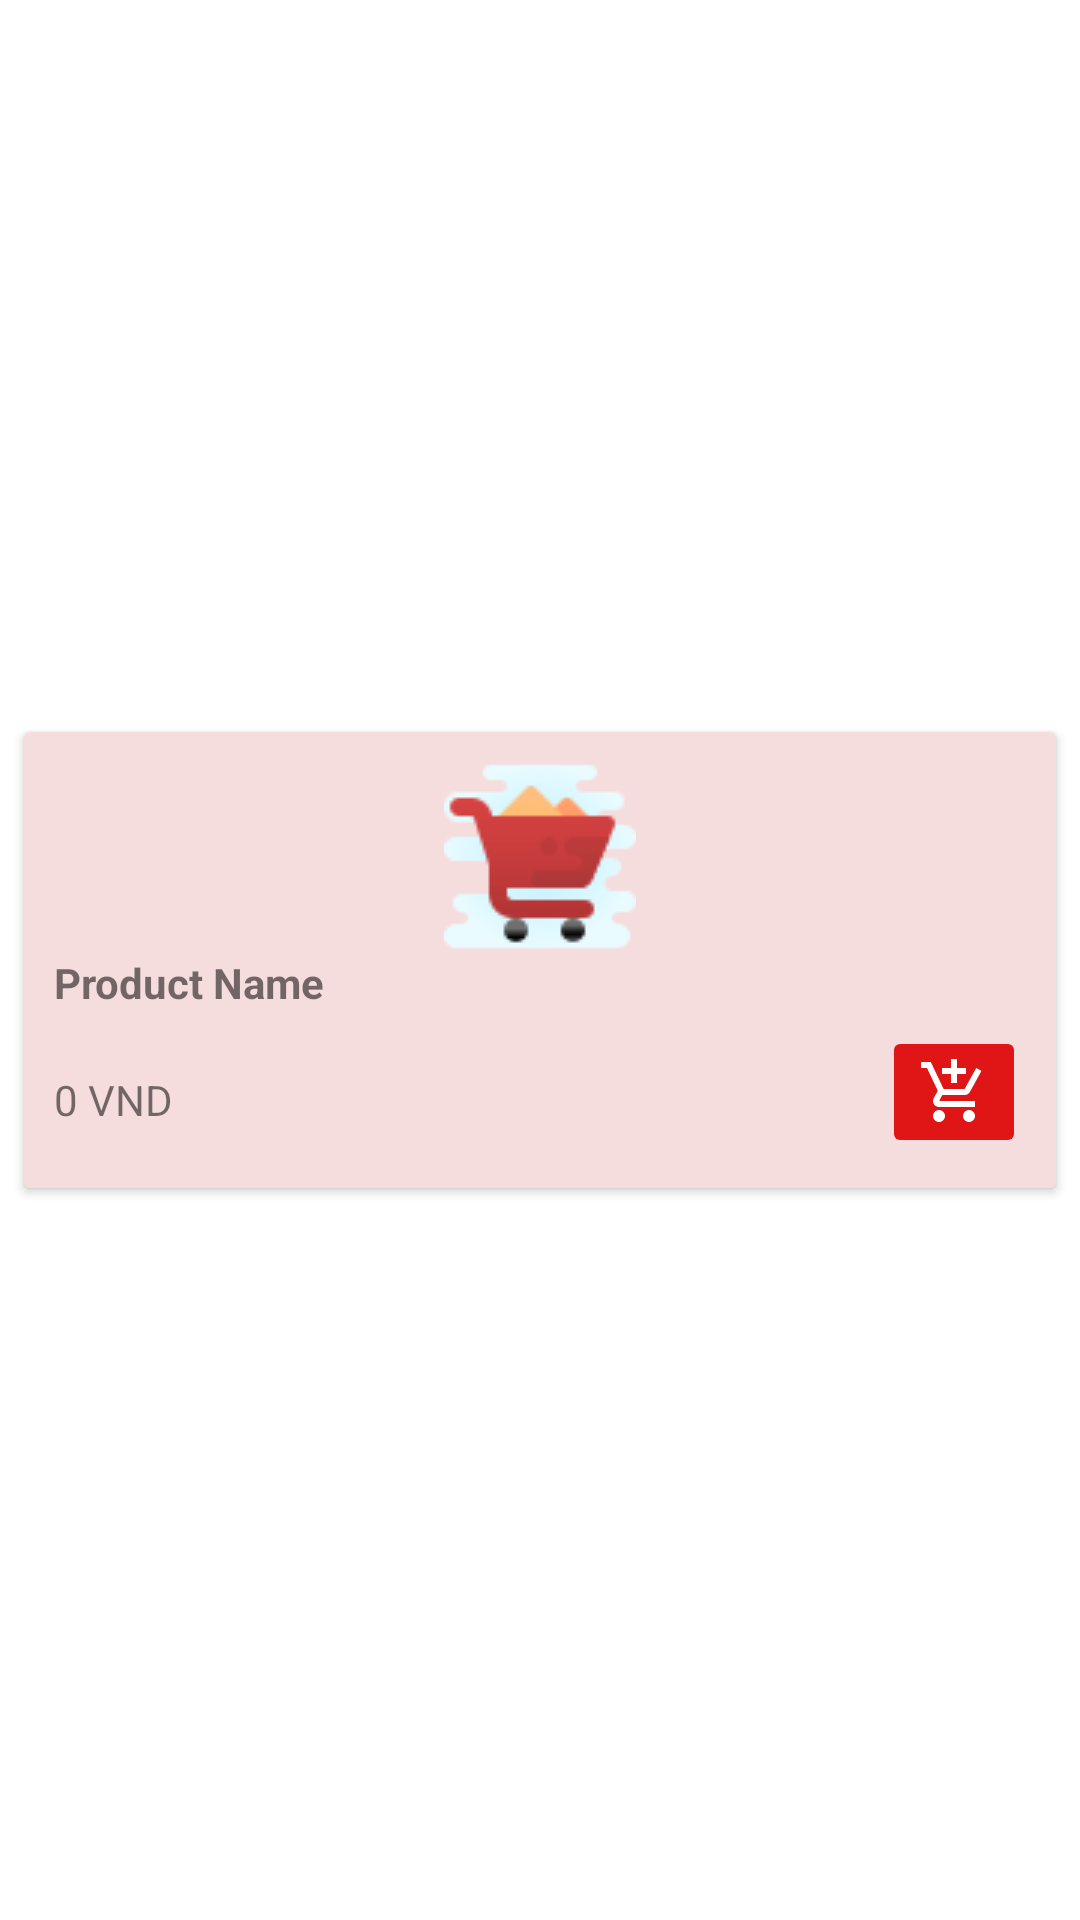

Screen size 1080px x 1920px. Icon name, then its center in pixels as (x,y):
add shopping cart: (954,1092)
